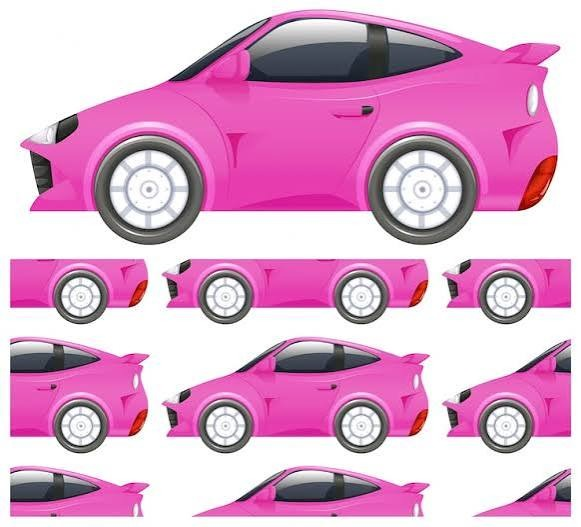car: (18, 4, 571, 288), (13, 2, 572, 244), (26, 1, 568, 249), (177, 337, 433, 457), (338, 337, 563, 452), (3, 342, 157, 454), (191, 464, 430, 523), (444, 341, 571, 452), (5, 458, 150, 523)
